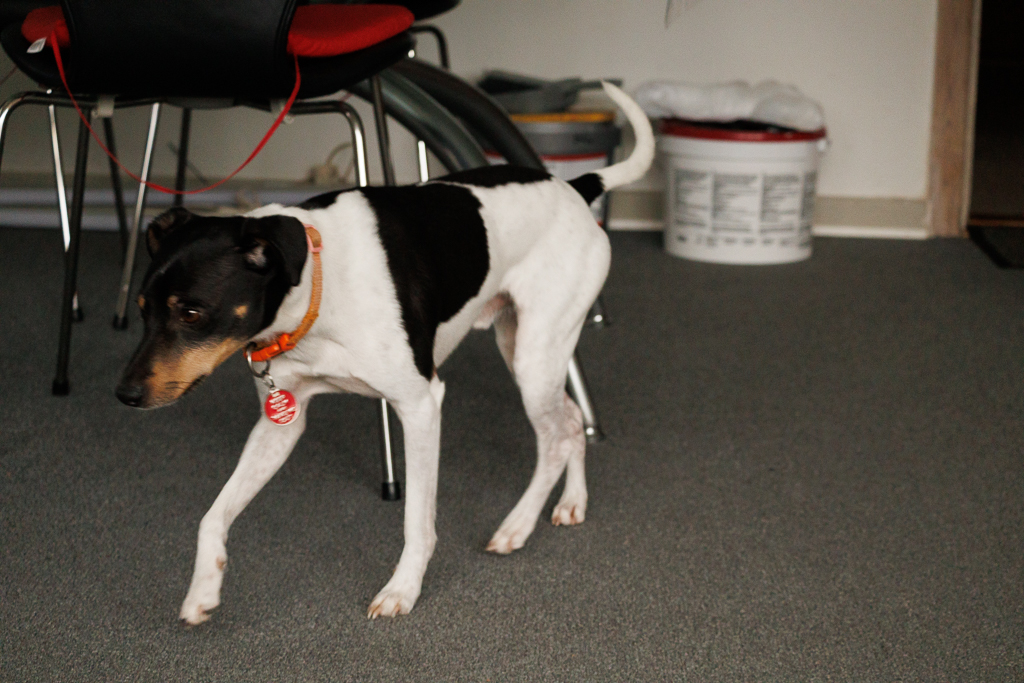Dog: (111, 77, 663, 633)
